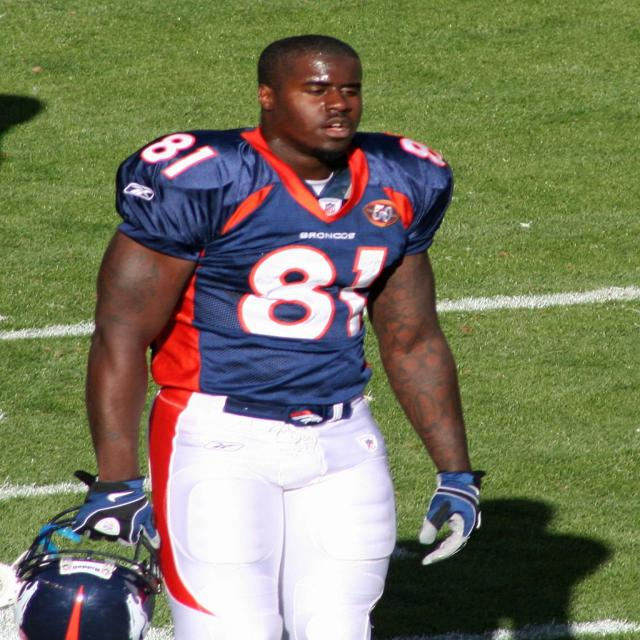Face: (262, 44, 374, 158)
